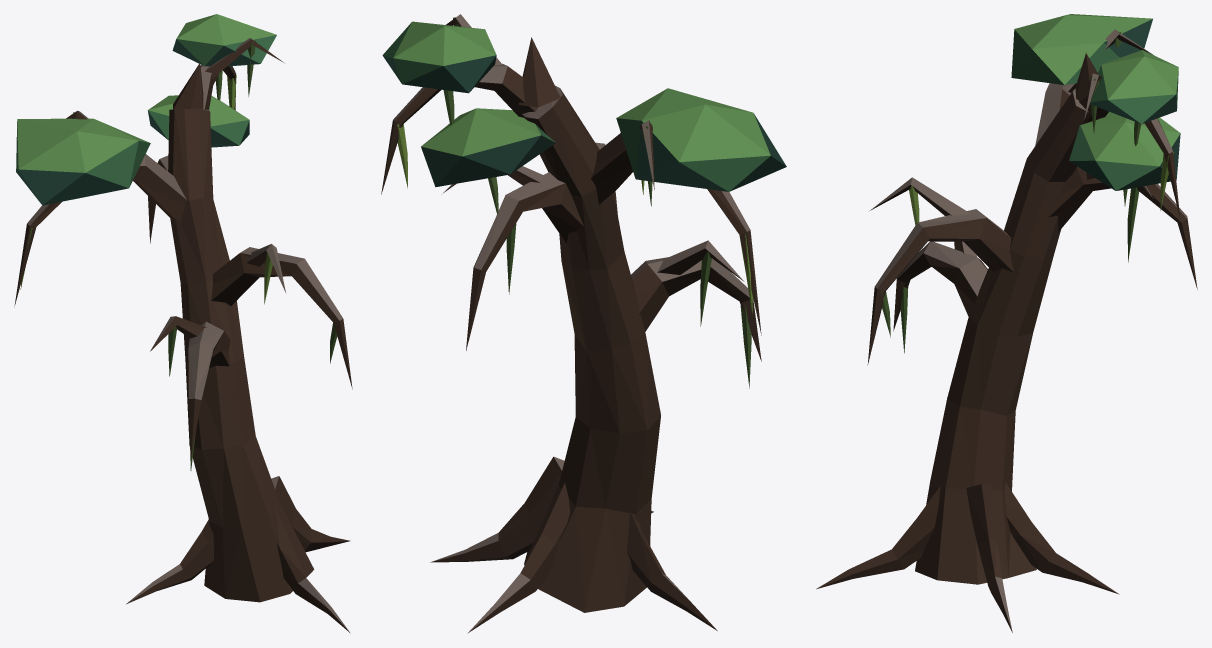
The model's file is SM_Tree_Gnarled_C.fbx.
3 renders of one model, left to right at view 1: azimuth 30°, elevation 25°; view 2: azimuth 150°, elevation 25°; view 3: azimuth 270°, elevation 25°, orthographic. The views are drawn at different scales.
Parts seen in each view (by area): view 1: SM_Tree_Gnarled_C; view 2: SM_Tree_Gnarled_C; view 3: SM_Tree_Gnarled_C.
Boxes of the visible parts, bbox=[...] form: SM_Tree_Gnarled_C: bbox=[14, 14, 352, 633]; SM_Tree_Gnarled_C: bbox=[381, 14, 786, 633]; SM_Tree_Gnarled_C: bbox=[816, 14, 1197, 632].
Bounding box in the file's own units: 5.96 × 9.39 × 6.
